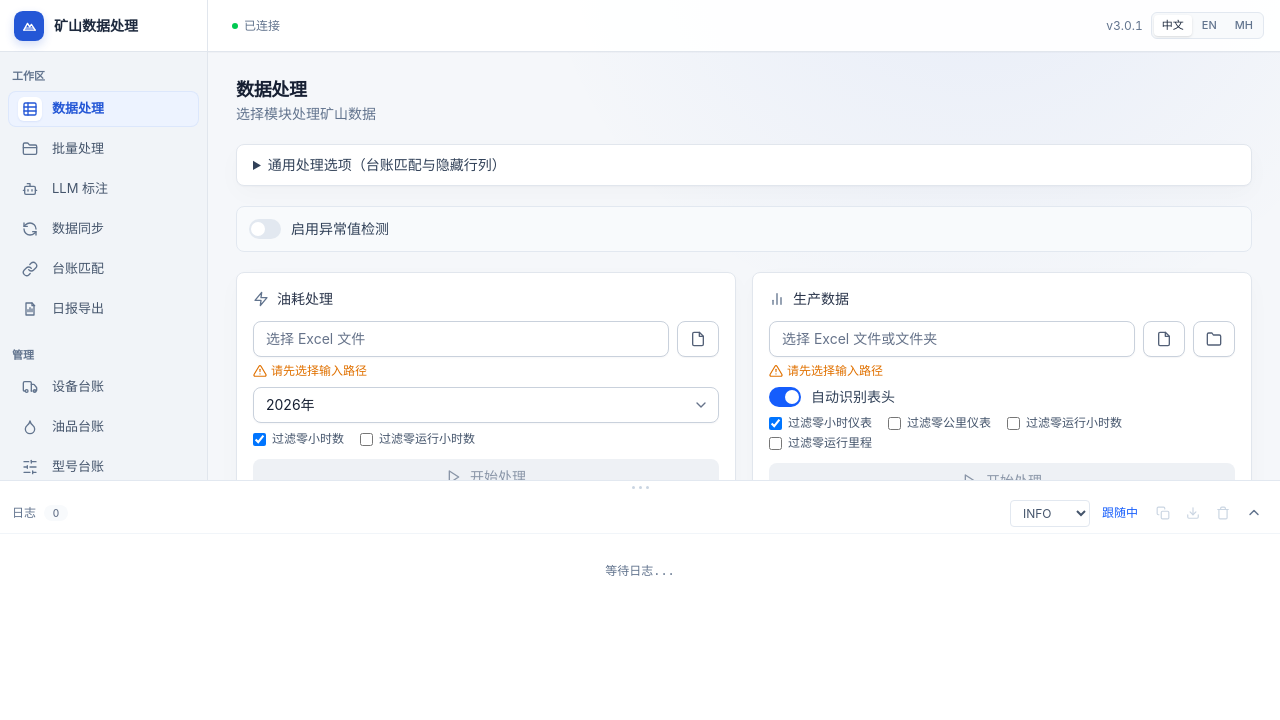
Test case: App task navigation › keeps the active task and its form state when navigating away and back
Expected: the text "油耗处理" is shown, [277,290,333,307]
Type "/tmp/fuel.xlsx" into the field with placeholder "选择 Excel 文件" at [461, 339], box [253,321,669,357]
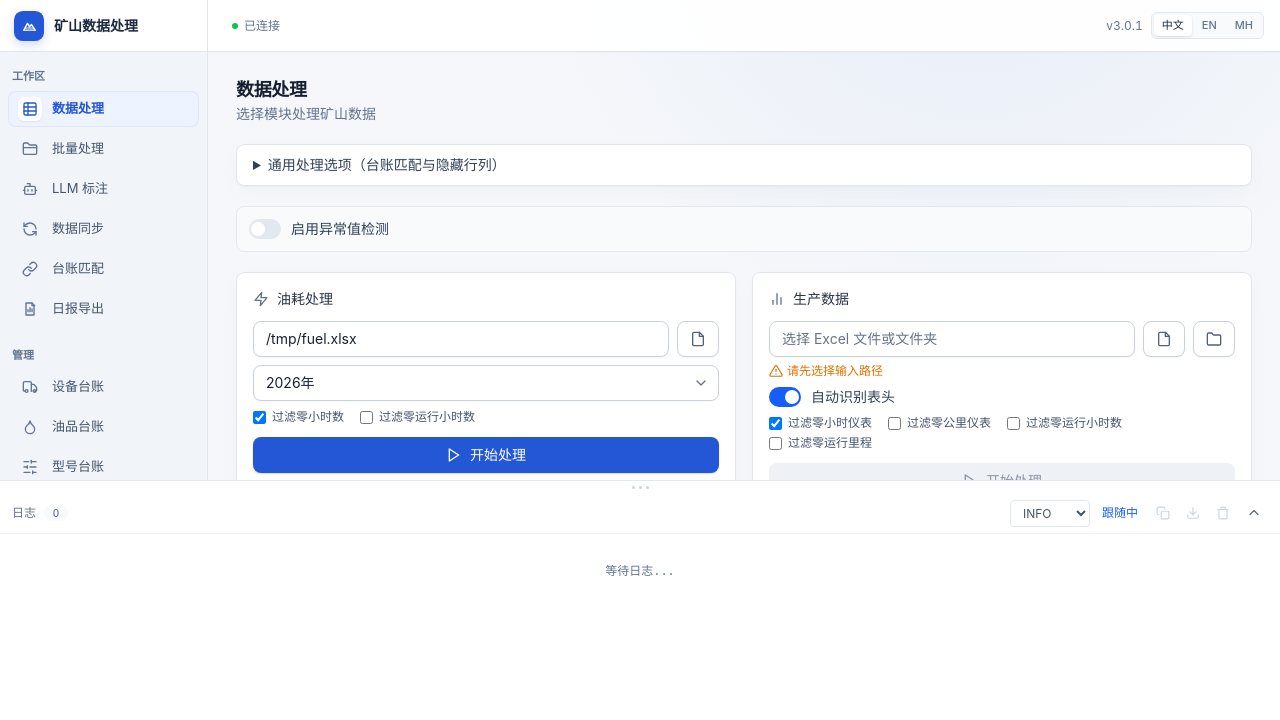
Click the button "开始处理" at [486, 455], box [253,437,719,473]
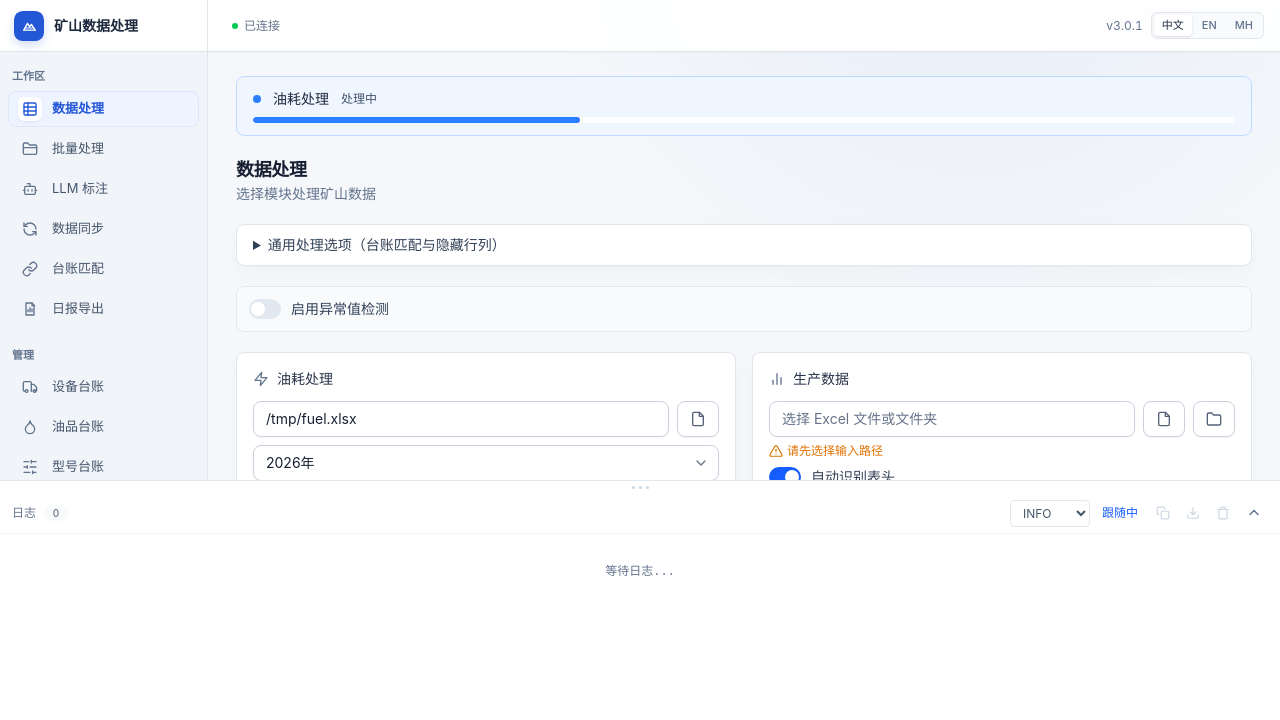
Click the button "批量处理" at [104, 148], box [8,130,199,166]
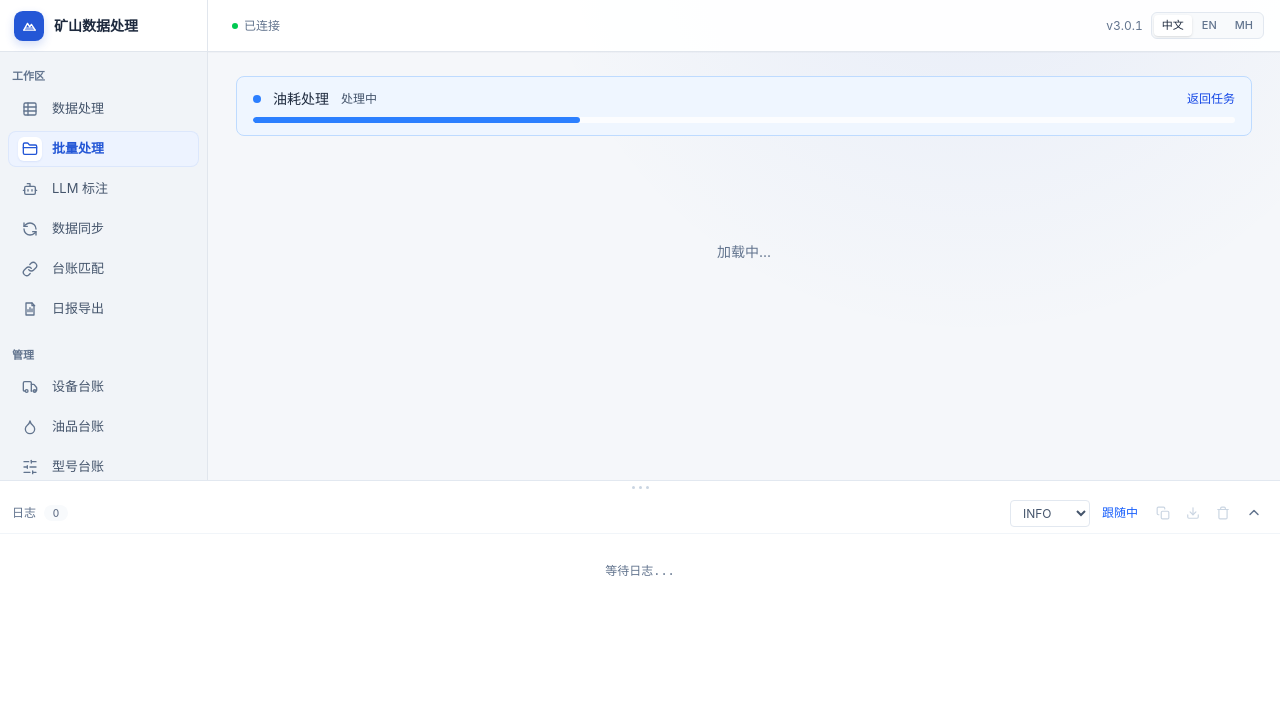
Now the element named "正在处理" shows "油耗处理", box [273,90,329,107]
Click the button "数据处理" at [104, 108], box [8,90,199,126]
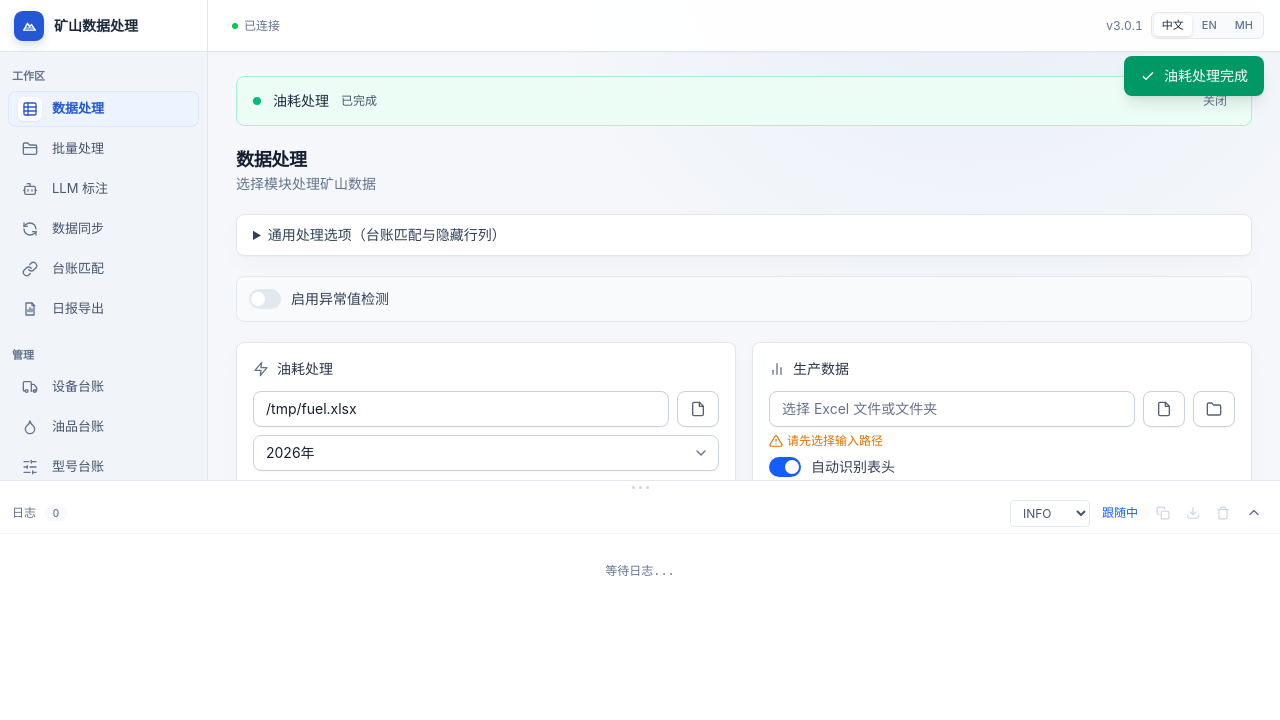
Now the element named "正在处理" shows "已完成", box [341,93,377,108]
